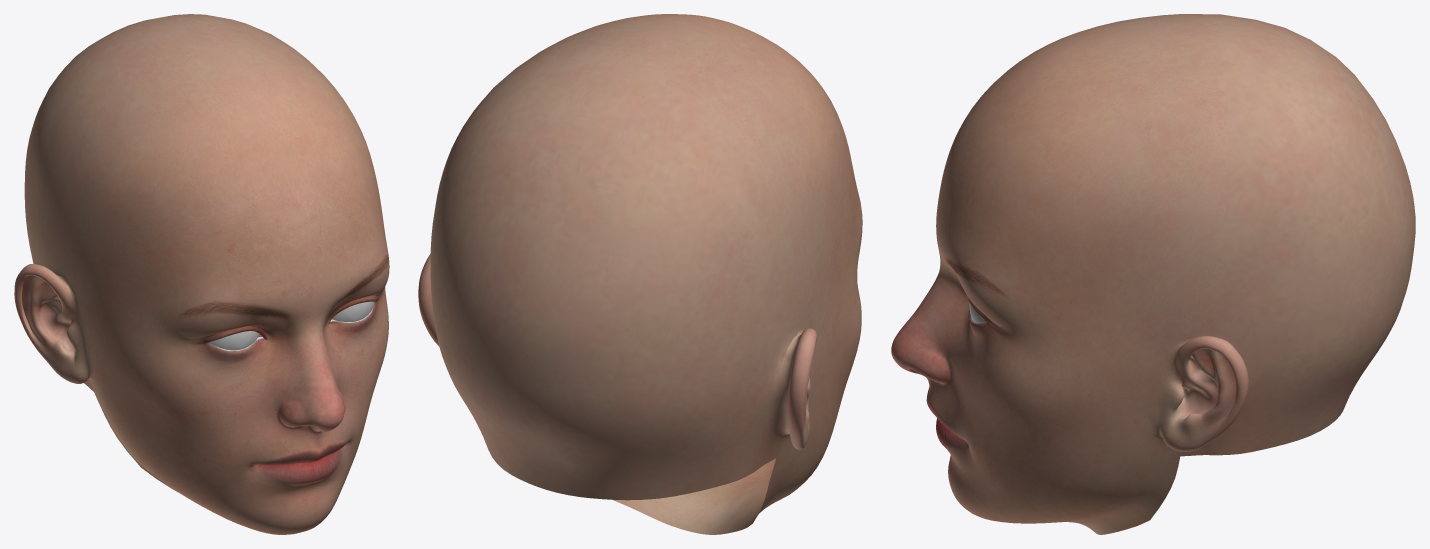
Rendered from Fem.obj.
The picture shows the model from 3 angles, left to right: view 1: azimuth 30°, elevation 25°; view 2: azimuth 150°, elevation 25°; view 3: azimuth 270°, elevation 25°; orthographic projection. The views are drawn at different scales.
Parts seen in each view (by area): view 1: Genesis2Female; view 2: Genesis2Female; view 3: Genesis2Female.
Boxes of the visible parts, x1,y1,x2,y2 form: Genesis2Female: (14, 14, 389, 534); Genesis2Female: (418, 14, 862, 534); Genesis2Female: (891, 14, 1415, 534).
Size of the model in its own units: 17.95 by 23.17 by 22.21.
